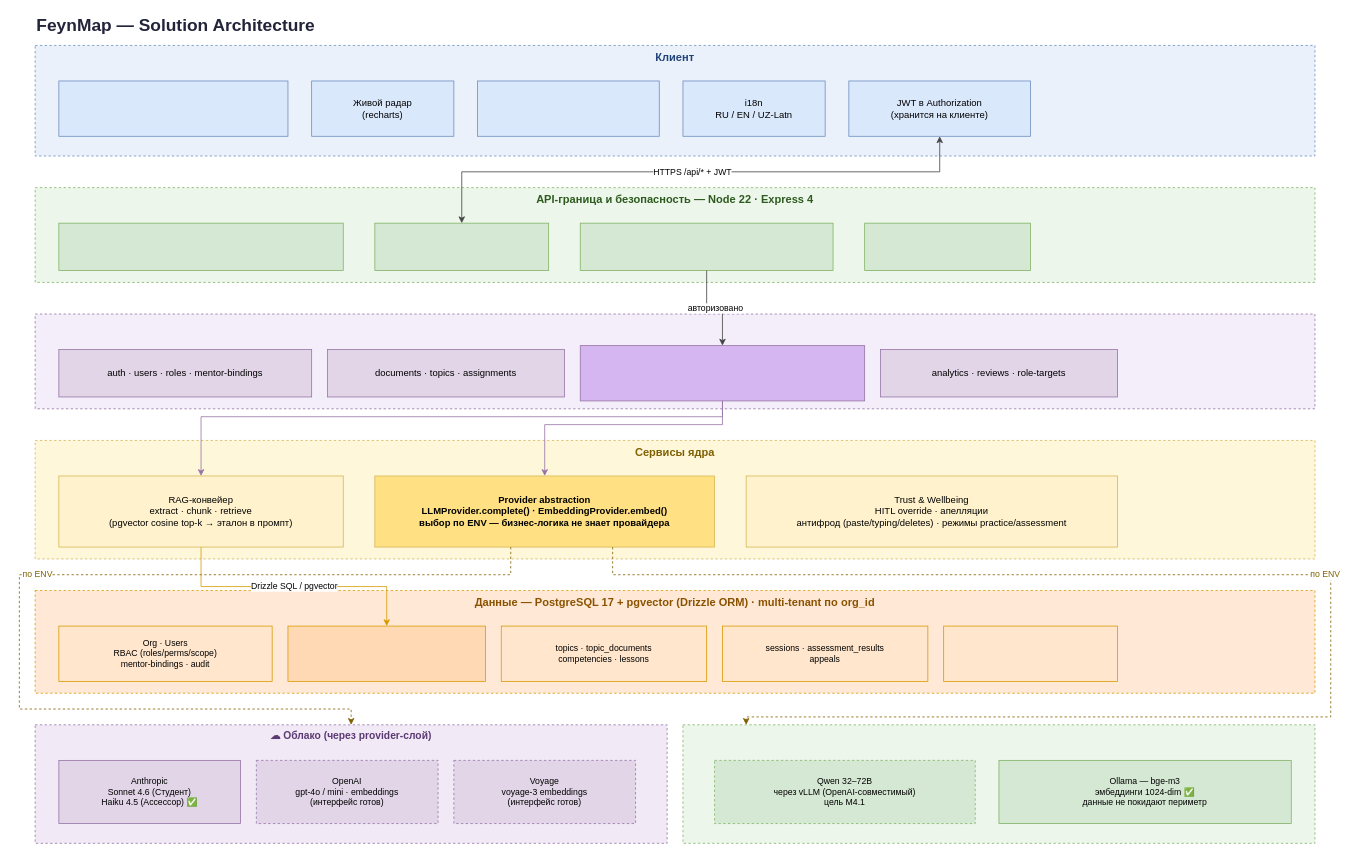
Image size: 1354x857. Some labels were removed from this diagram. Here are the shapes that lost their labels. From the top down, the box of each, then its label:
(58, 80, 288, 136): React 18 SPA — Vite 5 · TS · Tailwind setup · session · report
(477, 80, 659, 136): Админ-панель users · KB · topics · review
(58, 222, 343, 271): helmet · CORS allowlist · express.json (4mb)
(374, 222, 549, 271): requireAuth (проверка JWT)
(579, 222, 833, 271): requirePermission(code, scope) perm + область own / team / org
(864, 222, 1031, 271): Audit log (append-only)
(34, 313, 1315, 409): Доменные маршруты (Express routers)
(579, 345, 865, 401): ⭐ sessions turn · finalize · convert · override · appeal
(287, 625, 485, 681): KB: documents document_chunks embedding vector(1024)
(943, 625, 1117, 681): assignments role_targets · spaced_reviews
(682, 724, 1315, 843): 🖥 On-premise (тот же provider-слой)
